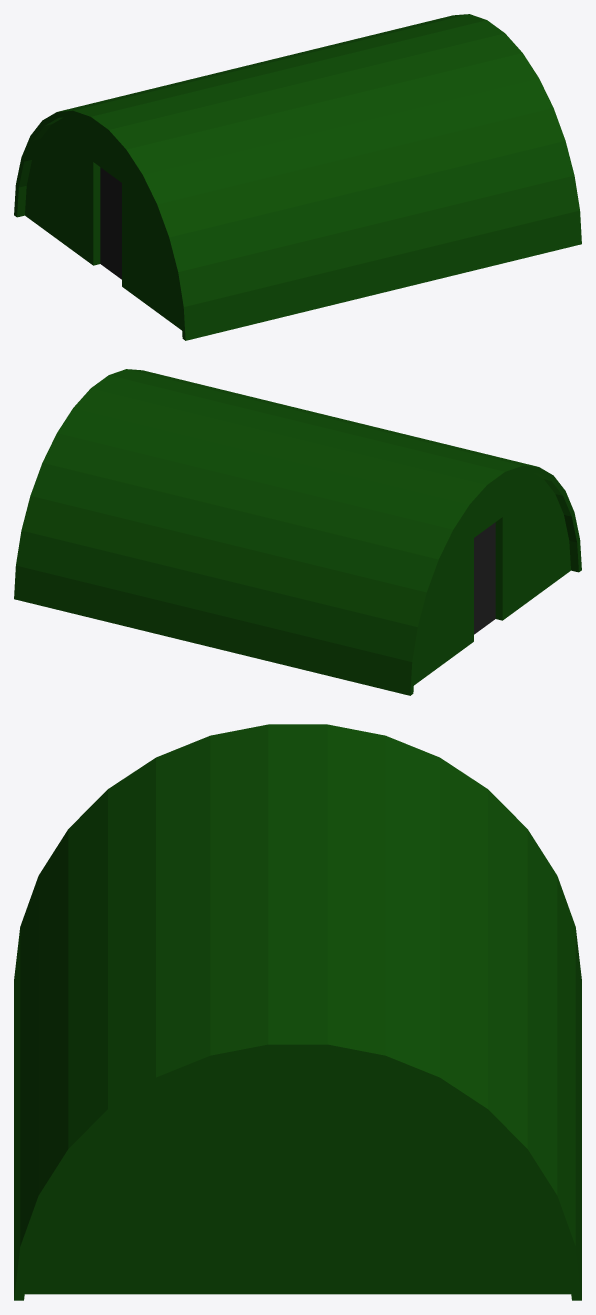
The model's file is Millitary.fbx.
The picture shows the model from 3 angles, top to bottom: view 1: azimuth 30°, elevation 25°; view 2: azimuth 150°, elevation 25°; view 3: azimuth 270°, elevation 25°; orthographic projection. The views are drawn at different scales.
Visible parts, largest first — view 1: MillitaryBase; view 2: MillitaryBase; view 3: MillitaryBase.
Boxes of the visible parts, x1=… form: MillitaryBase: x1=14, y1=14, x2=581, y2=340; MillitaryBase: x1=14, y1=369, x2=581, y2=695; MillitaryBase: x1=14, y1=724, x2=581, y2=1300.
Bounding box in the file's own units: 60 × 80 × 29.84.
